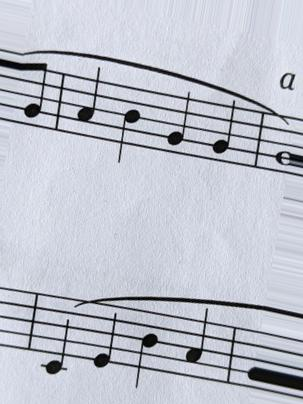A: (72, 62, 104, 146), (183, 306, 211, 384)
B: (131, 304, 162, 391), (115, 78, 142, 169)
E: (90, 302, 121, 380)
G: (163, 88, 193, 164), (208, 97, 239, 169)
LC: (38, 288, 76, 383)
